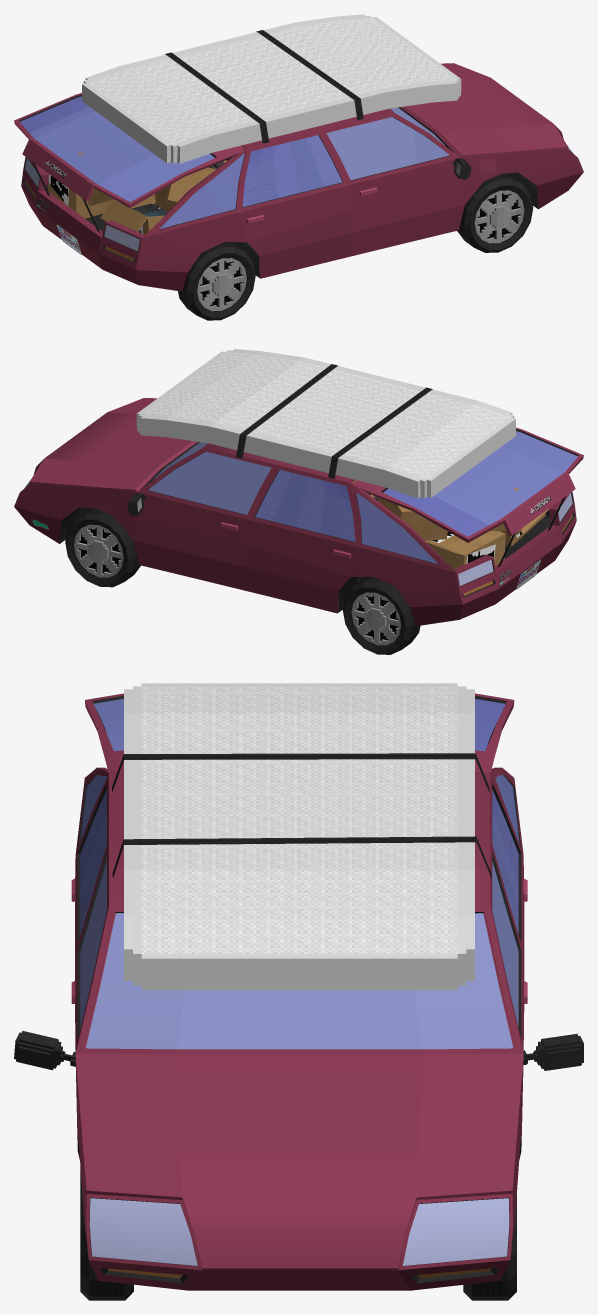
File: Cherry_Flare_EV_Cargo.fbx
The picture shows the model from 3 angles, top to bottom: view 1: azimuth 30°, elevation 25°; view 2: azimuth 150°, elevation 25°; view 3: azimuth 270°, elevation 25°; orthographic projection. The views are drawn at different scales.
Parts seen in each view (by area): view 1: CarMattress, Cherry_Flare, Door_FR, Door_RR, Trunk_Glass, Glass_RR, Glass_FR, Tire_RR, Tire_FR, Glass_2, Trunk, MovingBox_Clothes (+4 smaller); view 2: CarMattress, Cherry_Flare, Door_FL, Door_RL, Trunk_Glass, Glass_RL, Glass_FL, Tire_RL, Tire_FL, Trunk, Glass_2, MovingBox_Bedroom (+3 smaller); view 3: CarMattress, Cherry_Flare, Glass_2, Tether_2, Tether, Trunk, Trunk_Glass, Glass_RR, Glass_RL, Glass_FR, Glass_FL, Door_FL (+7 smaller).
Part boxes in pixels (left/top/right/bottom): CarMattress: left=82, top=14, right=461, bottom=163; Cherry_Flare: left=21, top=63, right=583, bottom=291; Door_FR: left=321, top=112, right=464, bottom=256; Door_RR: left=238, top=130, right=352, bottom=278; Trunk_Glass: left=20, top=96, right=214, bottom=201; Glass_RR: left=242, top=135, right=342, bottom=207; Glass_FR: left=326, top=117, right=449, bottom=179; Tire_RR: left=178, top=242, right=255, bottom=320; Tire_FR: left=457, top=173, right=533, bottom=252; Glass_2: left=25, top=107, right=572, bottom=251; Trunk: left=14, top=93, right=243, bottom=207; MovingBox_Clothes: left=100, top=193, right=177, bottom=234; CarMattress: left=136, top=349, right=515, bottom=498; Cherry_Flare: left=14, top=398, right=576, bottom=626; Door_FL: left=133, top=447, right=276, bottom=590; Door_RL: left=245, top=465, right=359, bottom=613; Trunk_Glass: left=383, top=431, right=577, bottom=536; Glass_RL: left=255, top=470, right=355, bottom=541; Glass_FL: left=148, top=451, right=271, bottom=514; Tire_RL: left=342, top=576, right=420, bottom=654; Tire_FL: left=65, top=508, right=140, bottom=587; Trunk: left=353, top=427, right=583, bottom=542; Glass_2: left=25, top=442, right=572, bottom=585; MovingBox_Bedroom: left=425, top=531, right=505, bottom=569; CarMattress: left=124, top=683, right=474, bottom=990; Cherry_Flare: left=75, top=767, right=524, bottom=1290; Glass_2: left=81, top=775, right=519, bottom=1265; Tether_2: left=112, top=753, right=489, bottom=792; Tether: left=112, top=836, right=491, bottom=879; Trunk: left=85, top=693, right=514, bottom=772; Trunk_Glass: left=93, top=698, right=505, bottom=751; Glass_RR: left=80, top=789, right=106, bottom=934; Glass_RL: left=492, top=789, right=518, bottom=933; Glass_FR: left=80, top=860, right=106, bottom=1028; Glass_FL: left=492, top=861, right=518, bottom=1027; Door_FL: left=483, top=840, right=524, bottom=1159.
Size of the model in its own units: 280 by 98.34 by 153.
Materials: 11 (11 with a texture image).
